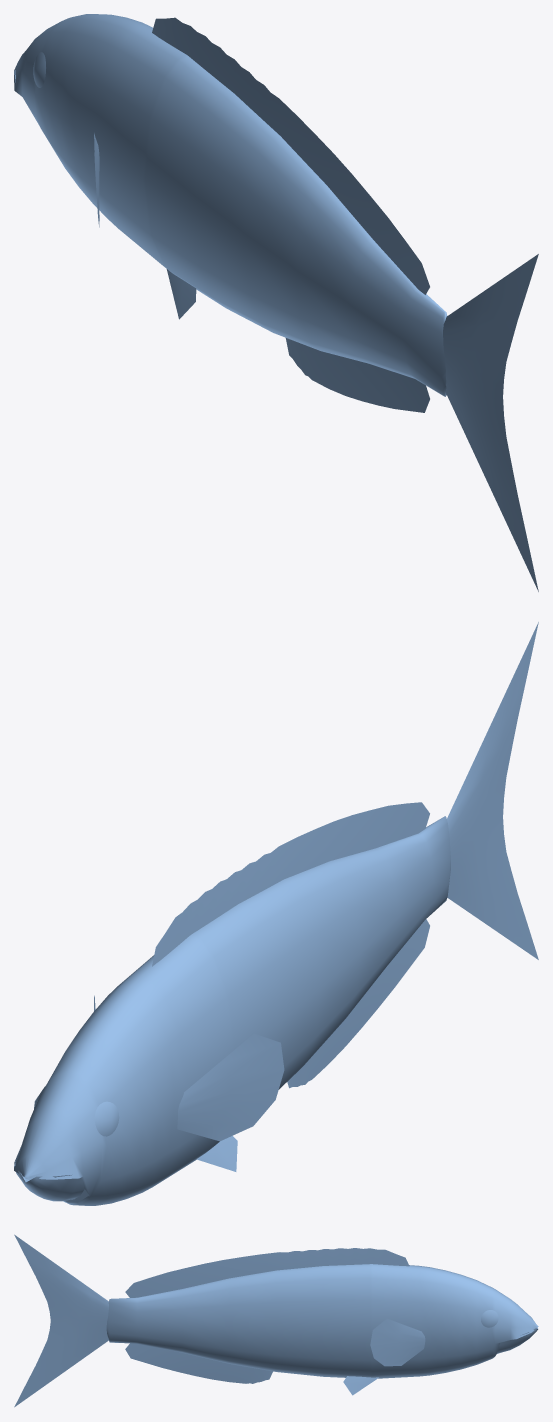
The model's file is wrasse_moon_game.glb.
3 views of the same model, one above another, from view 1: azimuth 30°, elevation 25°; view 2: azimuth 150°, elevation 25°; view 3: azimuth 270°, elevation 25° (orthographic). The views are drawn at different scales.
Visible parts, largest first — view 1: wrasse_moon_game; view 2: wrasse_moon_game; view 3: wrasse_moon_game.
Boxes of the visible parts, bbox=[...] form: wrasse_moon_game: bbox=[14, 14, 538, 591]; wrasse_moon_game: bbox=[14, 622, 538, 1205]; wrasse_moon_game: bbox=[14, 1234, 538, 1407].
Bounding box in the file's own units: 0.053 × 0.0913 × 0.2505.
